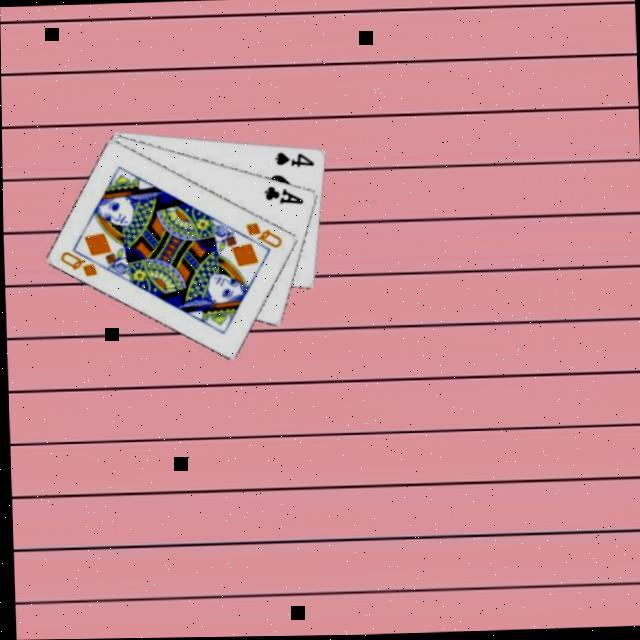4S: (268, 145, 314, 169)
AC: (260, 180, 304, 208)
QD: (53, 244, 98, 278), (239, 216, 282, 250)
